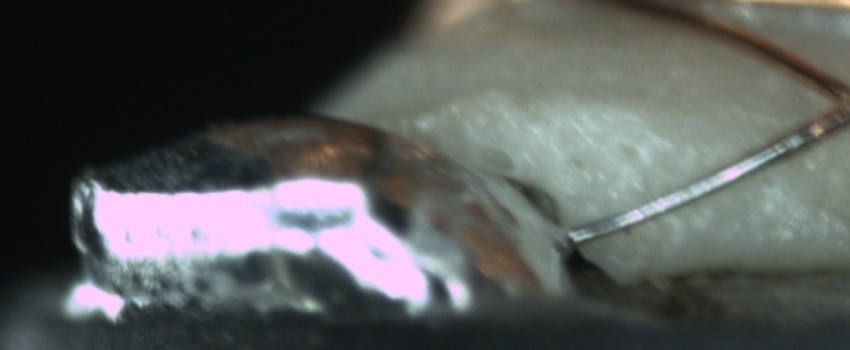CL: (805, 69, 850, 136)
TS: (566, 125, 821, 245)
